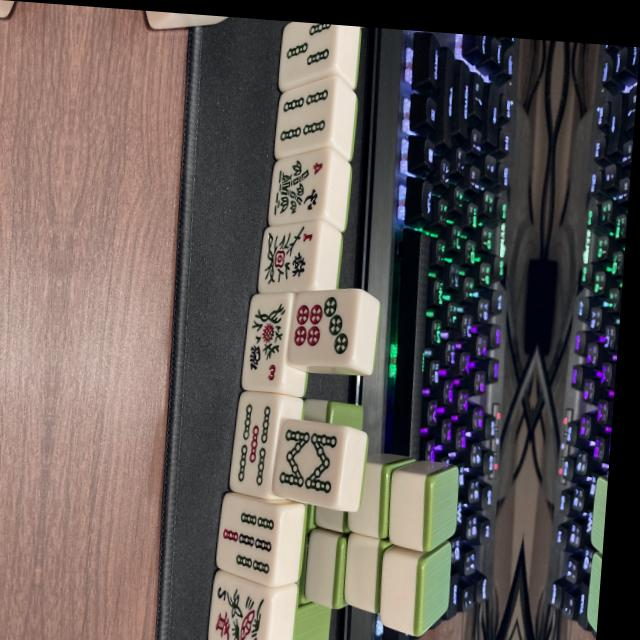f1: (257, 218, 316, 295)
f3: (241, 296, 289, 394)
f4: (270, 145, 330, 228)
ff2: (208, 574, 270, 640)
s3: (277, 21, 335, 80)
s4: (273, 79, 333, 161)
s5: (229, 396, 280, 497)
s7: (215, 499, 279, 585)
s8: (272, 422, 344, 505)
t7: (287, 288, 357, 370)
